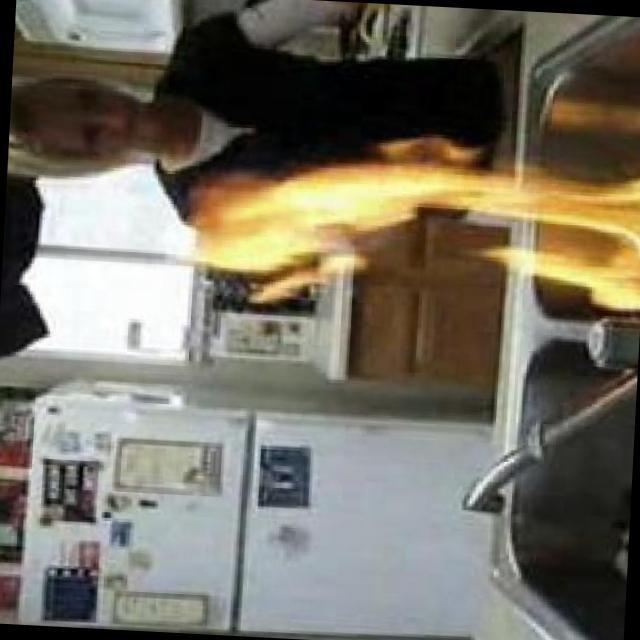Fire: (187, 119, 640, 313)
